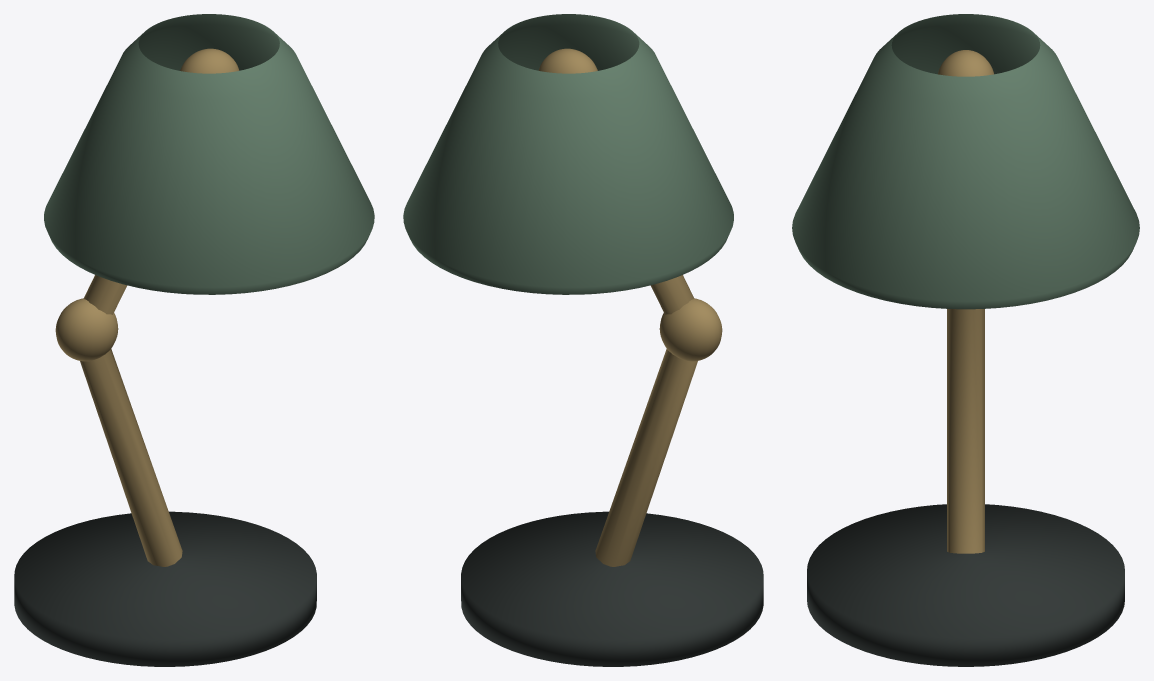
File: lamp-2.glb
The picture shows the model from 3 angles, left to right: view 1: azimuth 30°, elevation 25°; view 2: azimuth 150°, elevation 25°; view 3: azimuth 270°, elevation 25°; orthographic projection. The views are drawn at different scales.
Parts seen in each view (by area): view 1: Enamel shade, Weighted base, Articulated stem, Pivot cap, Pivot cap.001; view 2: Enamel shade, Weighted base, Articulated stem, Pivot cap, Pivot cap.001; view 3: Enamel shade, Weighted base, Articulated stem, Pivot cap.001.
Boxes of the visible parts, x1,y1,x2,y2 form: Enamel shade: (44,14,374,294); Weighted base: (14,511,316,666); Articulated stem: (80,275,182,566); Pivot cap: (55,298,118,361); Pivot cap.001: (180,48,239,73); Enamel shade: (403,14,733,294); Weighted base: (461,511,763,666); Articulated stem: (595,275,697,566); Pivot cap: (659,298,722,361); Pivot cap.001: (538,48,597,73); Enamel shade: (792,14,1139,309); Weighted base: (807,504,1124,666); Articulated stem: (947,309,984,553); Pivot cap.001: (938,50,993,76).
Size of the model in its own units: 0.182 by 0.3 by 0.164.
